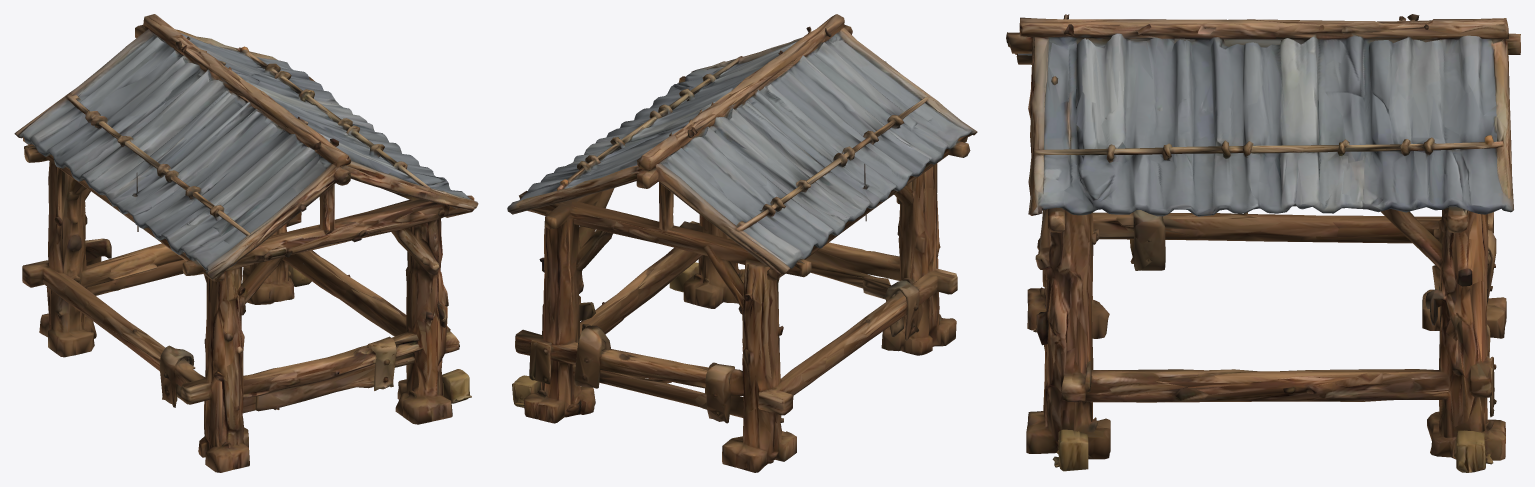
The model's file is bld_west_canopy.fbx.
3 views of the same model, side by side, from view 1: azimuth 30°, elevation 25°; view 2: azimuth 150°, elevation 25°; view 3: azimuth 270°, elevation 25° (orthographic). The views are drawn at different scales.
Parts seen in each view (by area): view 1: bld_west_canopy_LOD0; view 2: bld_west_canopy_LOD0; view 3: bld_west_canopy_LOD0.
Boxes of the visible parts, <box> form: bld_west_canopy_LOD0: <box>14,14,478,472</box>; bld_west_canopy_LOD0: <box>507,14,977,472</box>; bld_west_canopy_LOD0: <box>1006,14,1520,472</box>.
Size of what is drawn, in the model's own units: 0.7981 by 0.7744 by 0.9795.
